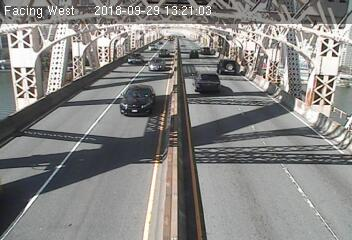car: (117, 83, 162, 118), (191, 72, 223, 97), (214, 57, 242, 76), (146, 56, 169, 74), (125, 51, 145, 64), (186, 47, 199, 59), (200, 44, 211, 55), (157, 47, 170, 56)
